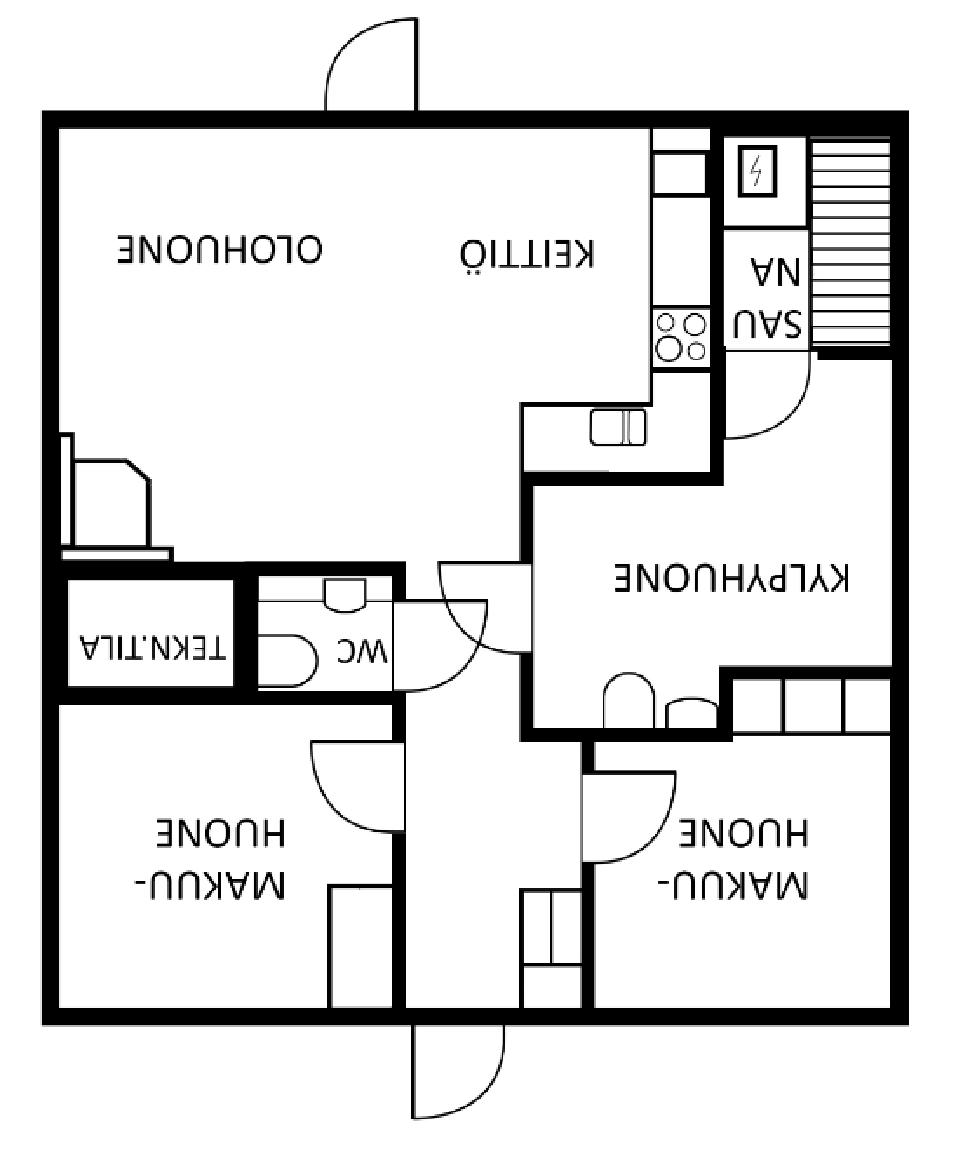door: (400, 1010, 511, 1119), (301, 737, 411, 842), (430, 556, 538, 658), (321, 16, 424, 117), (578, 769, 681, 867), (392, 601, 488, 693), (723, 351, 813, 444)
zone: (56, 127, 716, 1008), (522, 121, 884, 732), (53, 699, 394, 1010), (594, 738, 888, 1003), (68, 577, 231, 684), (253, 575, 392, 692)
